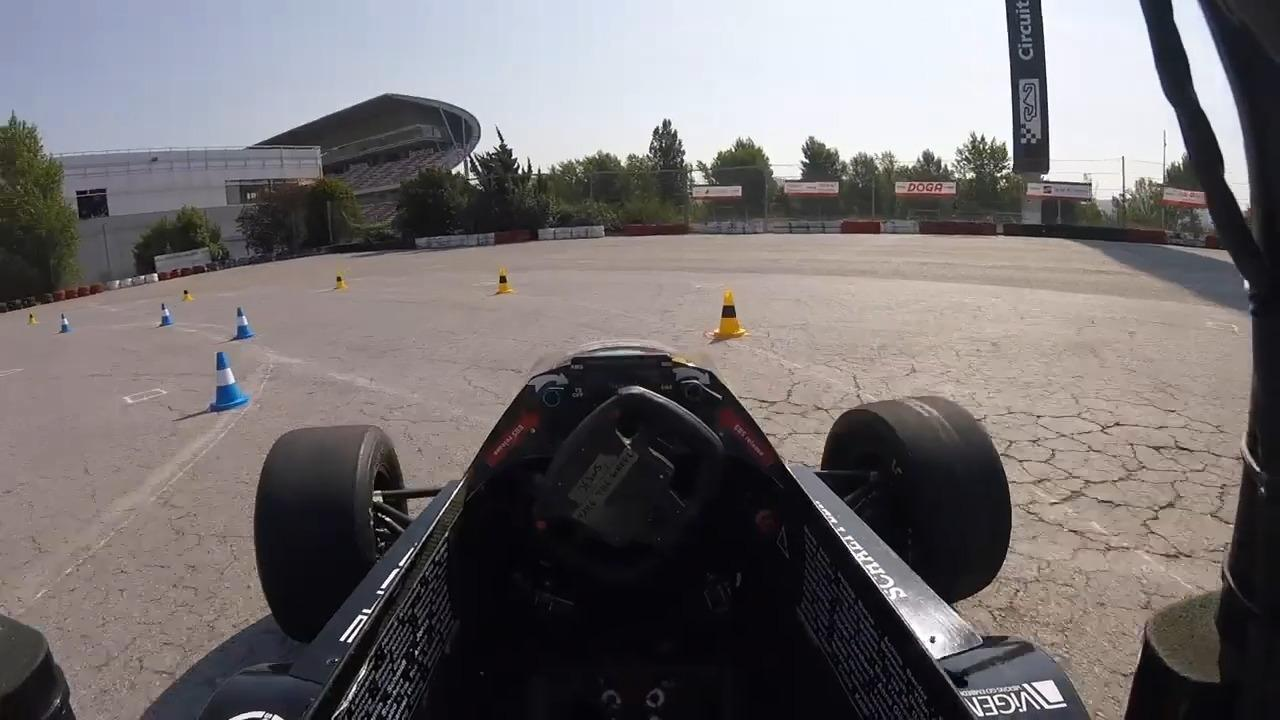blue_cone: (203, 349, 255, 412), (228, 304, 258, 342), (157, 302, 176, 327), (57, 314, 72, 335)
yellow_cone: (707, 288, 748, 341), (493, 265, 515, 295), (332, 272, 347, 289), (182, 288, 195, 304), (27, 312, 40, 326)
